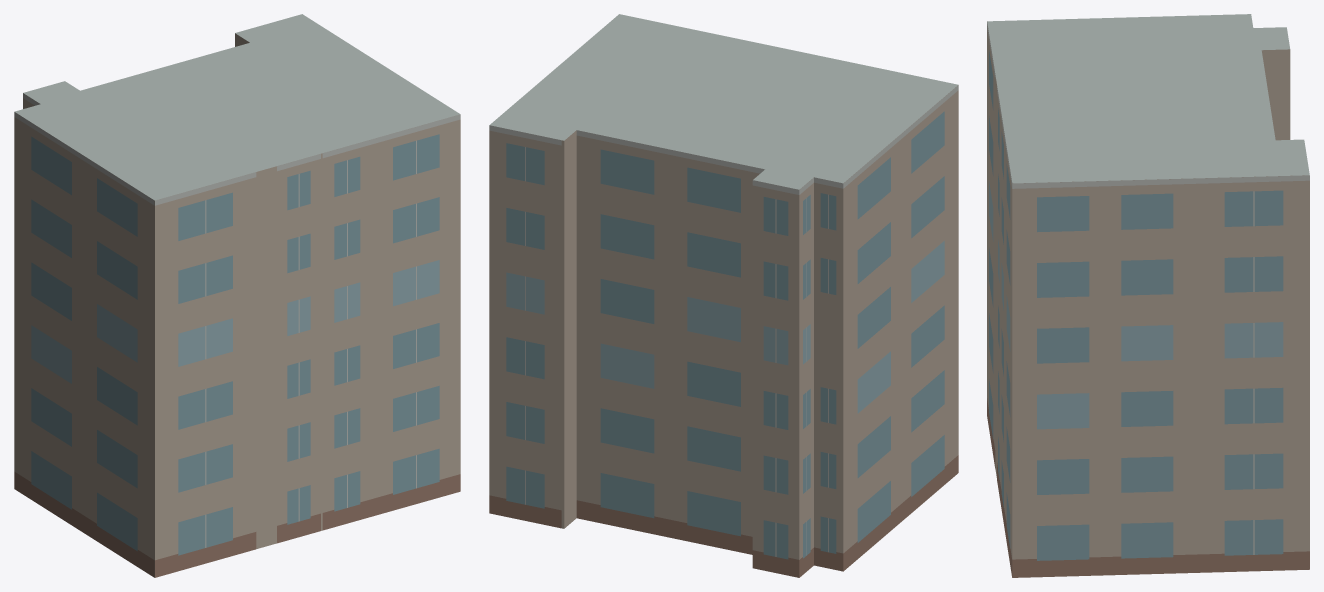
The model's file is survey-upis-32989126.glb.
The picture shows the model from 3 angles, left to right: view 1: azimuth 30°, elevation 25°; view 2: azimuth 150°, elevation 25°; view 3: azimuth 270°, elevation 25°; orthographic projection. The views are drawn at different scales.
Visible parts, largest first — view 1: survey-upis-32989126.tmp; view 2: survey-upis-32989126.tmp; view 3: survey-upis-32989126.tmp.
Part boxes in pixels (bbox=[...]): survey-upis-32989126.tmp: bbox=[14, 14, 460, 577]; survey-upis-32989126.tmp: bbox=[489, 14, 958, 577]; survey-upis-32989126.tmp: bbox=[987, 14, 1309, 577].
Size of the model in its own units: 16.31 by 17.7 by 13.13.
